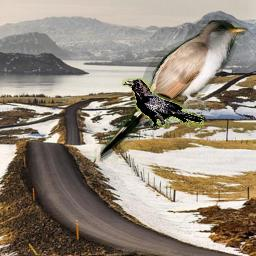Crow: (122, 78, 204, 128)
Cuckoo: (94, 20, 249, 163)
